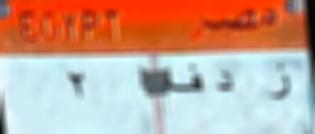2: (61, 69, 99, 102)
daal: (210, 66, 236, 98)
faa: (163, 60, 205, 95)
zay: (260, 58, 294, 107)
